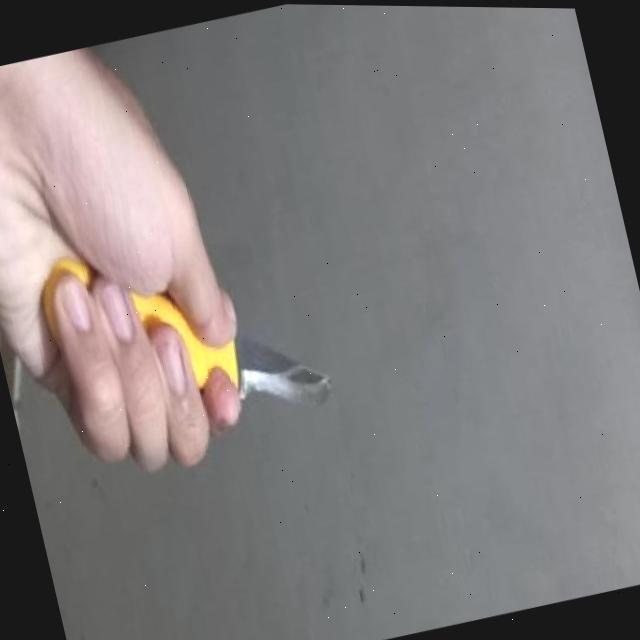knife: (33, 204, 335, 457)
